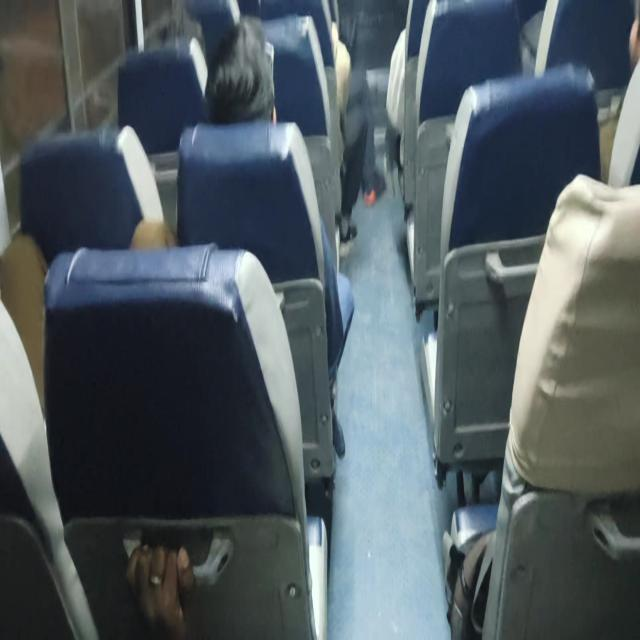person: (200, 15, 355, 458), (203, 15, 277, 124), (124, 540, 196, 636)
